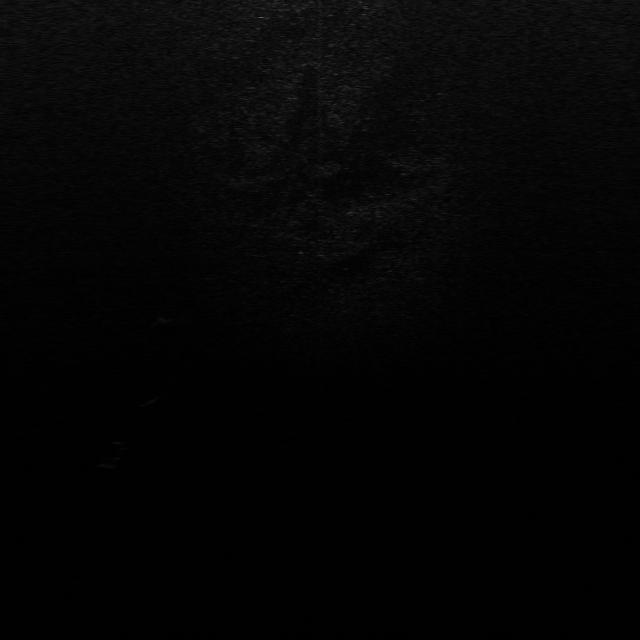ball: (157, 373, 183, 396)
circle cage: (156, 308, 182, 324)
tyre: (95, 442, 126, 467)
